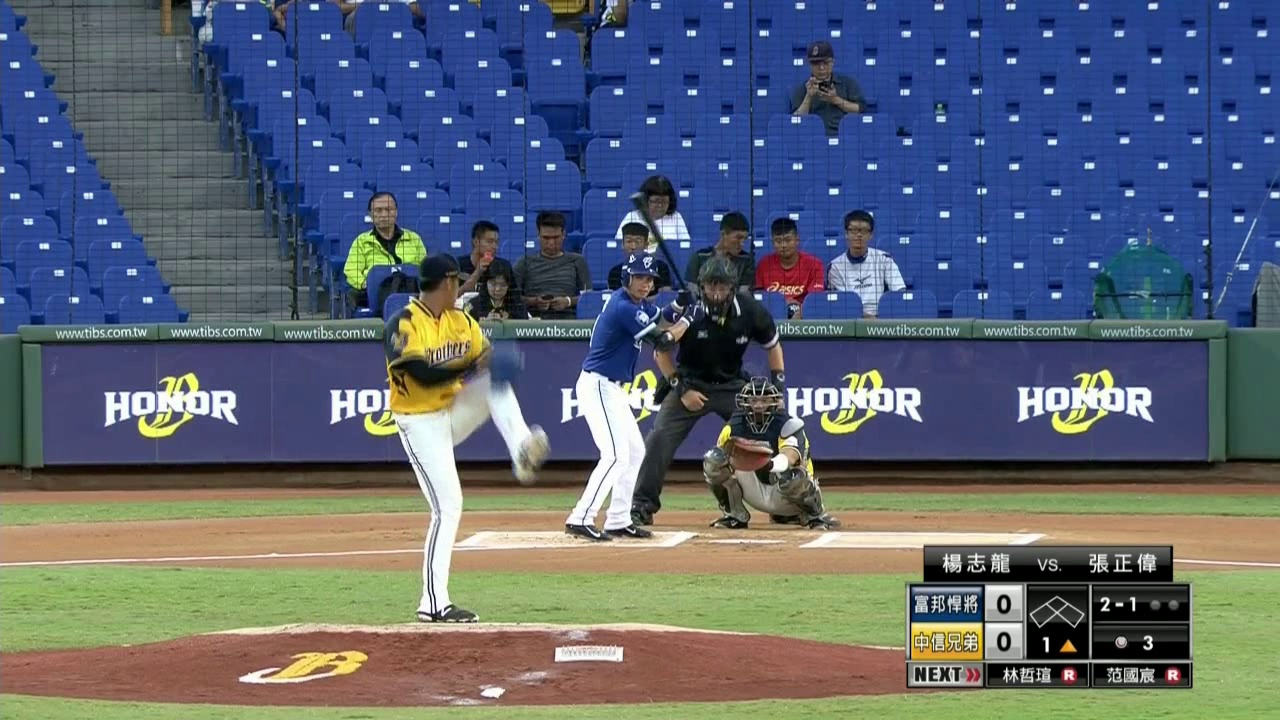base: (1029, 593, 1088, 629)
bat: (629, 189, 690, 295)
out: (1148, 596, 1181, 613)
score1: (985, 584, 1022, 620)
score2: (985, 622, 1022, 658)
session: (1038, 634, 1078, 654)
strikeball: (1097, 593, 1142, 616)
total: (1104, 629, 1165, 653)
